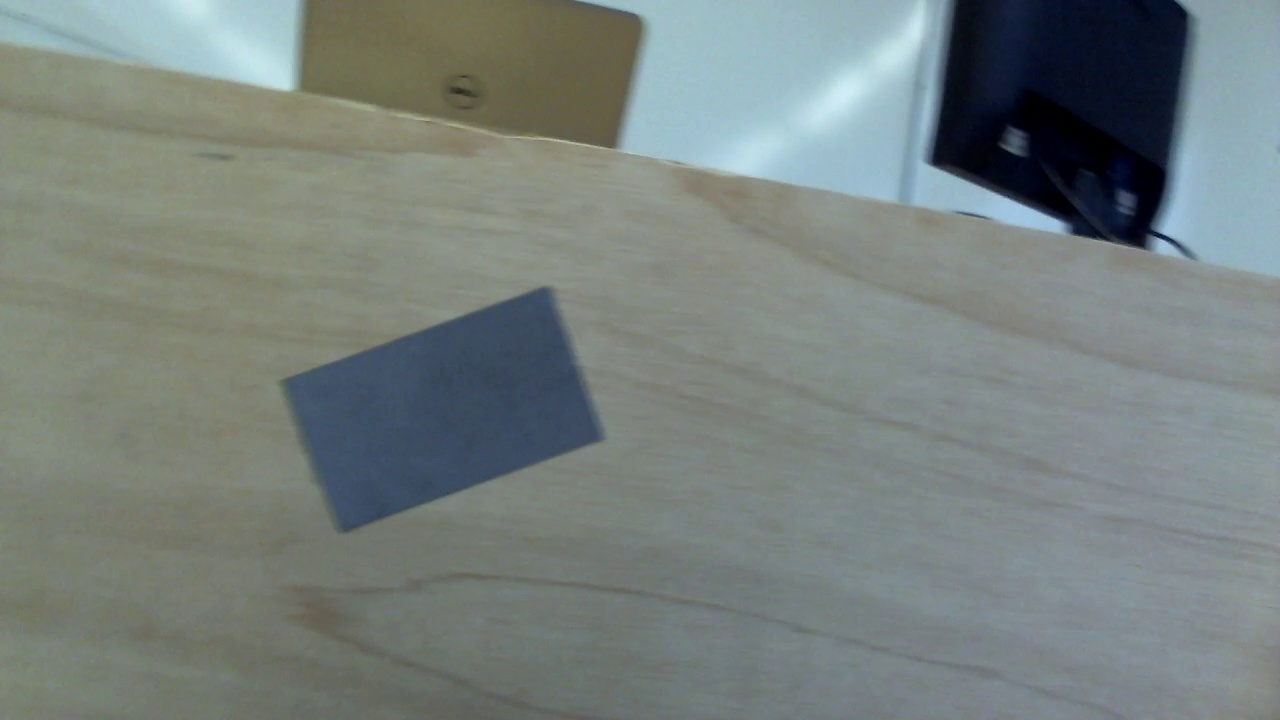Tape: (279, 286, 606, 532)
